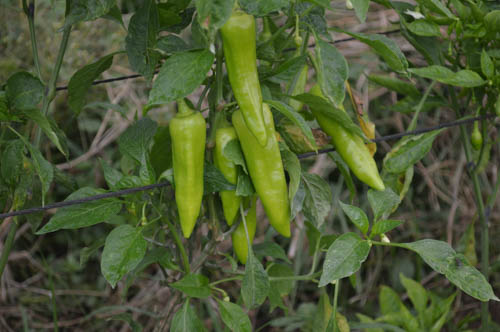ChiliPepper: (309, 85, 386, 191), (232, 106, 293, 235), (224, 16, 267, 143), (167, 116, 206, 240), (213, 126, 243, 225), (225, 182, 257, 263)
